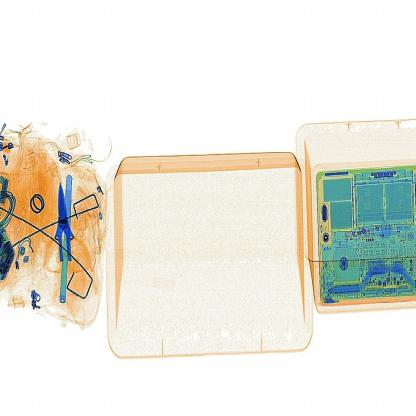gun: (36, 179, 100, 279)
